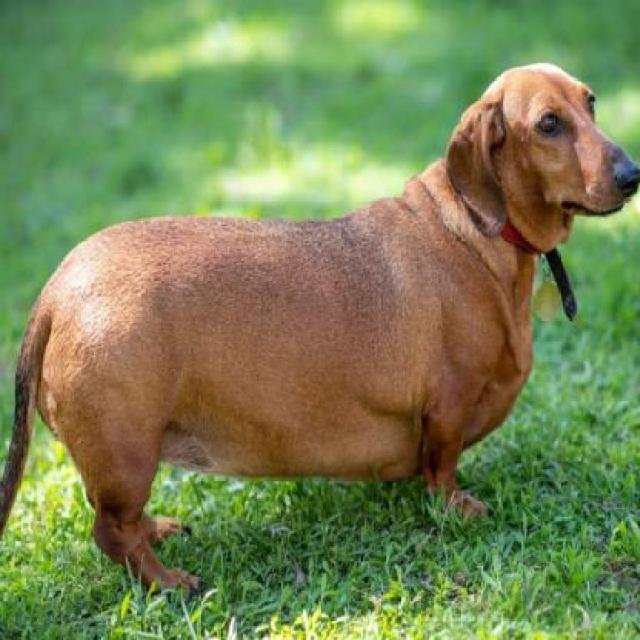Dog: (0, 29, 638, 603)
